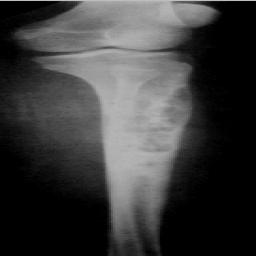cancer: (105, 77, 188, 256)
